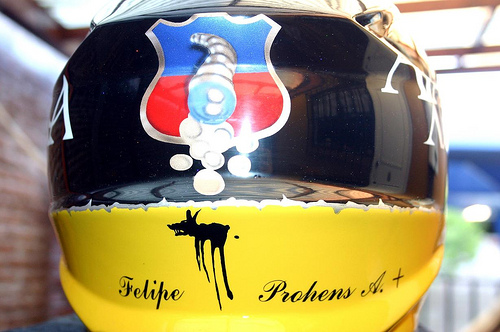helmet: (41, 8, 448, 312)
